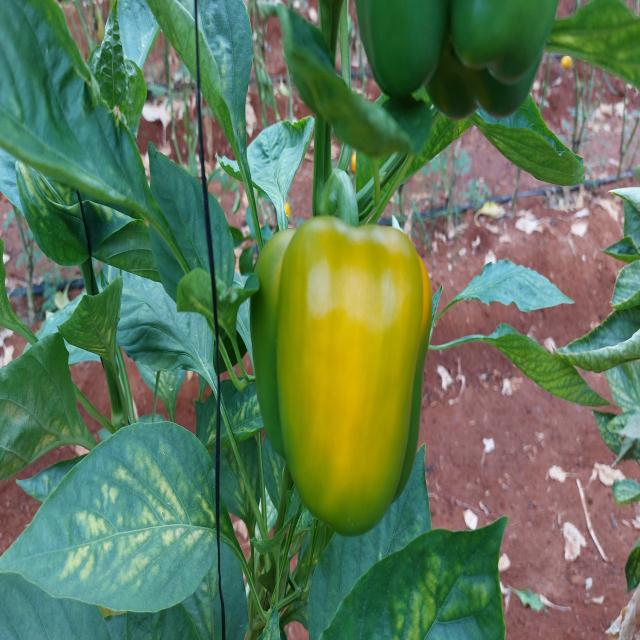GreenishYellow--Can-be-Harvested: (250, 207, 442, 550)
